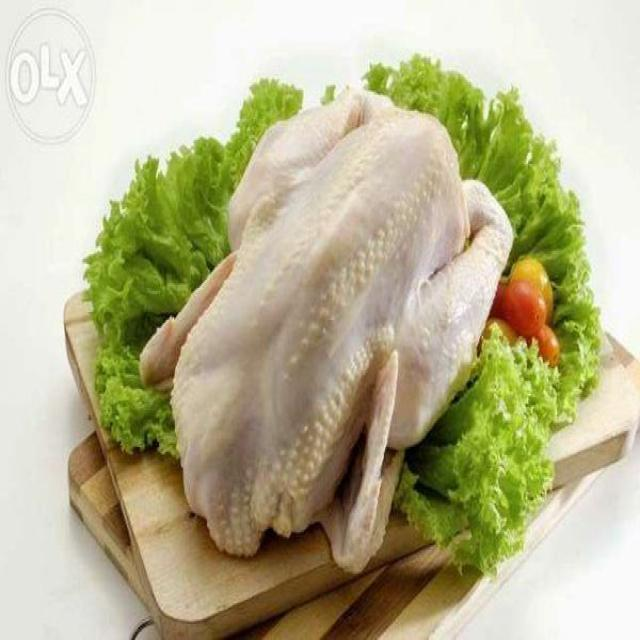Chicken: (119, 89, 539, 585)
